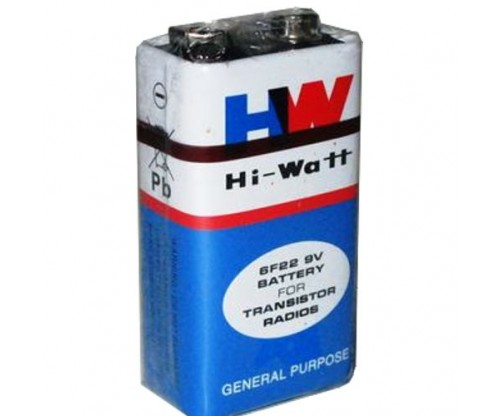9V: (121, 7, 368, 407)
